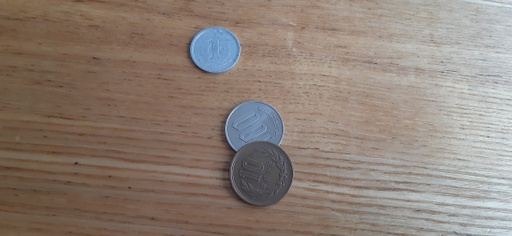100yen: (226, 102, 283, 157)
10yen: (230, 142, 292, 205)
1yen: (190, 26, 240, 73)
